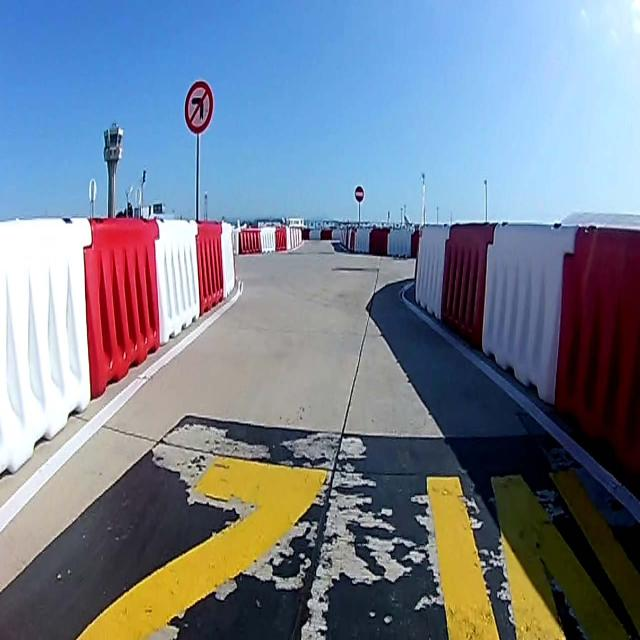girisyok: (353, 185, 365, 203)
soladonulmez: (183, 78, 215, 138)
